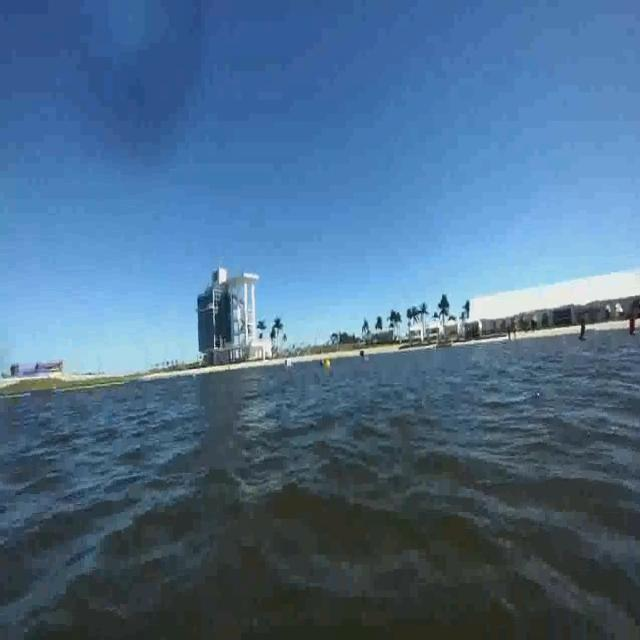yellow-buoy: (327, 358, 333, 370)
